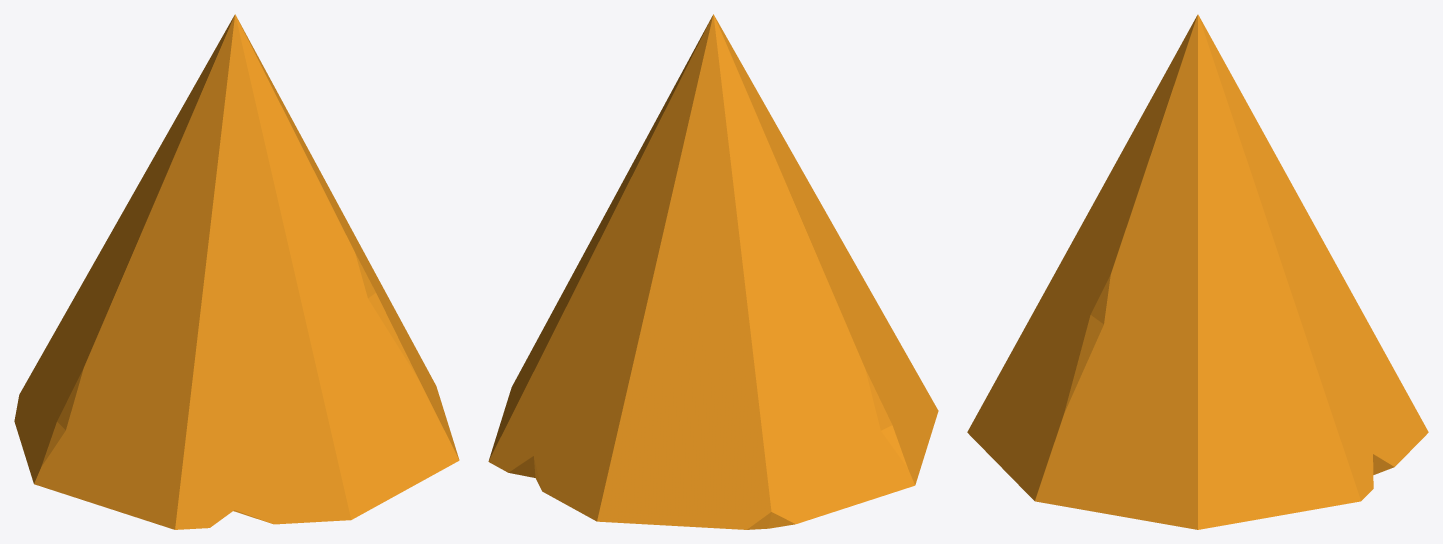
3 views of the same model, side by side, from view 1: azimuth 30°, elevation 25°; view 2: azimuth 150°, elevation 25°; view 3: azimuth 270°, elevation 25° (orthographic).
Visible parts, largest first — view 1: SM_Primitive_Cone_01P; view 2: SM_Primitive_Cone_01P; view 3: SM_Primitive_Cone_01P.
Part boxes in pixels (x1,y1,x2,y2): SM_Primitive_Cone_01P: (14,14,459,529); SM_Primitive_Cone_01P: (488,14,938,529); SM_Primitive_Cone_01P: (967,14,1428,529).
Size of the model in its own units: 100 by 100 by 100.
